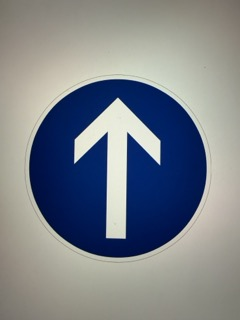GO FORWARD: (27, 74, 210, 261)
